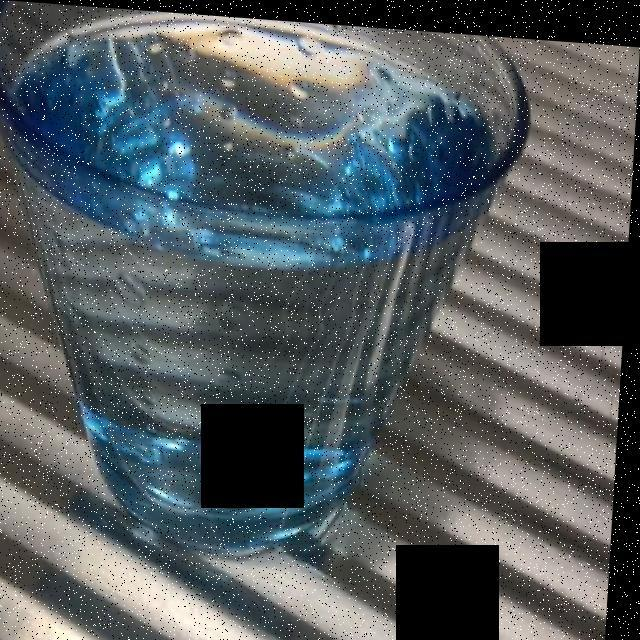water: (19, 41, 493, 534)
